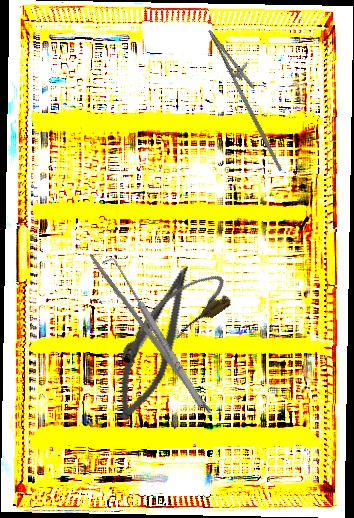Cannula: (105, 265, 238, 372)
Hook Surgical: (100, 251, 208, 414)
Micro Scissor: (107, 258, 201, 427)
Needle Holder: (191, 22, 309, 172)
Scalpel Handle: (86, 252, 213, 416)
